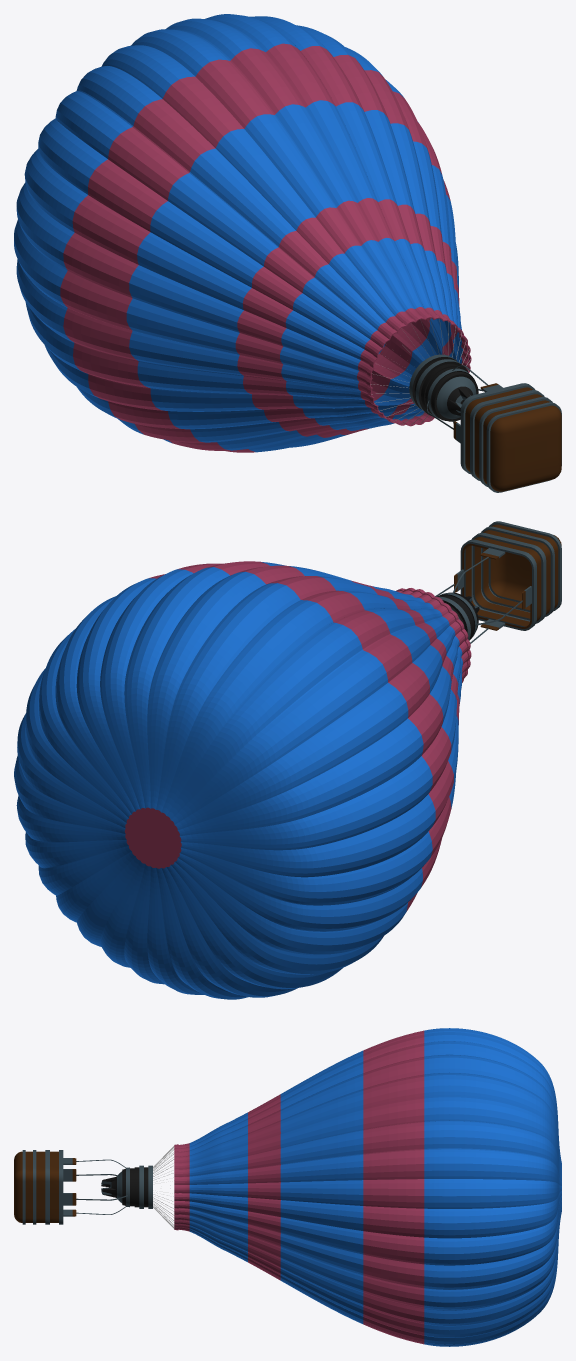
The model's file is NuMongol_mat.fbx.
The picture shows the model from 3 angles, top to bottom: view 1: azimuth 30°, elevation 25°; view 2: azimuth 150°, elevation 25°; view 3: azimuth 270°, elevation 25°; orthographic projection. The views are drawn at different scales.
Visible parts, largest first — view 1: pallone, cabina, motore; view 2: pallone, cabina, Cap, motore; view 3: pallone, cabina, motore.
Boxes of the visible parts, box(x1,y1,x2,y2) form: pallone: box(14, 14, 471, 452); cabina: box(453, 383, 561, 492); motore: box(409, 354, 478, 421); pallone: box(14, 561, 471, 999); cabina: box(454, 521, 561, 630); Cap: box(124, 807, 181, 868); motore: box(437, 592, 479, 640); pallone: box(174, 1028, 561, 1346); cabina: box(14, 1150, 76, 1224); motore: box(101, 1165, 152, 1208).
Size of the model in its own units: 863 by 864 by 1484.
